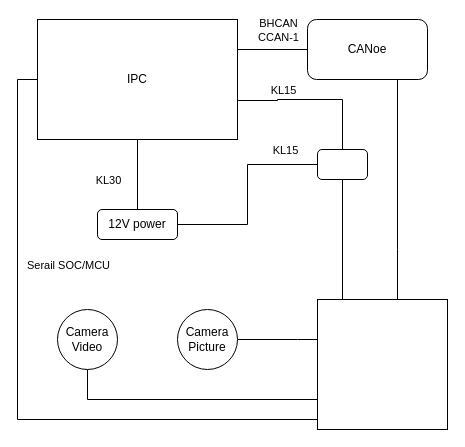
Some shapes in this 465 by 447 pixel diagram are drawn without their labels. Here are the shapes that lost their labels. From the top down, the centre of each, then its label:
pixel 342 164: Relay
pixel 382 364: PC
